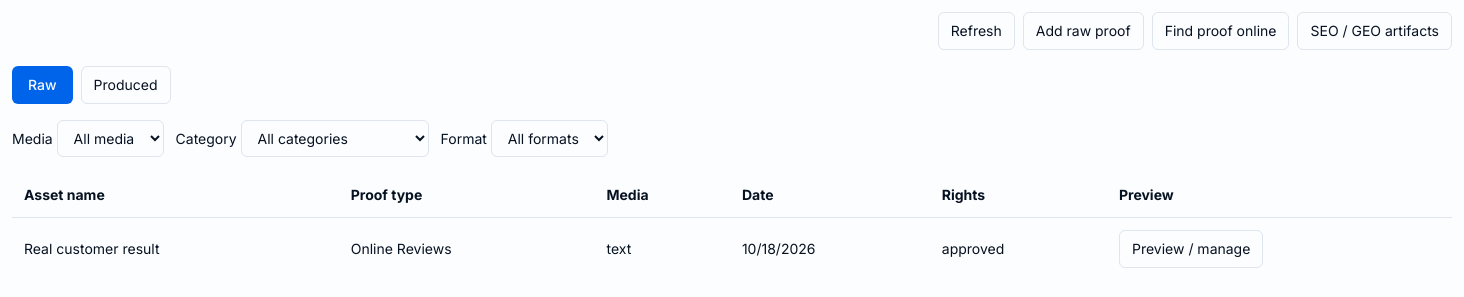
separates raw evidence from produced assets
Expected: the text "Online Reviews" is shown, [339, 218, 594, 280]
Expected: the text "Approved graphic" is not shown
Click the button "Produced" at (126, 85), box [81, 66, 171, 104]
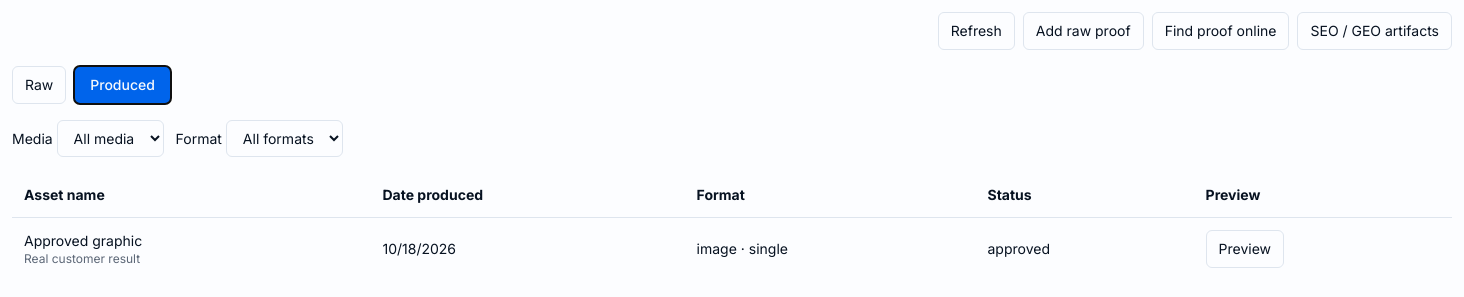
Result: the text "Approved graphic" is shown at [24, 232, 142, 249]
Result: the text "Online Reviews" is gone
